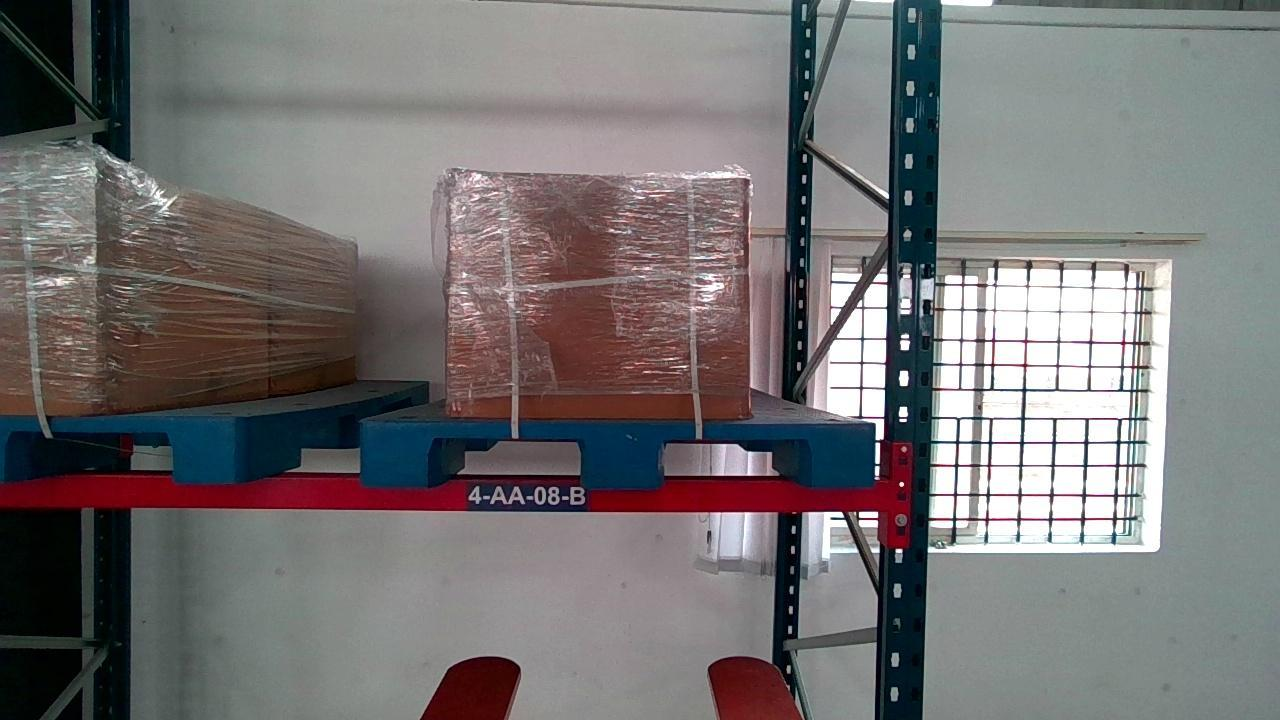h_rack: (0, 477, 896, 511)
small_pallet: (361, 419, 874, 487)
